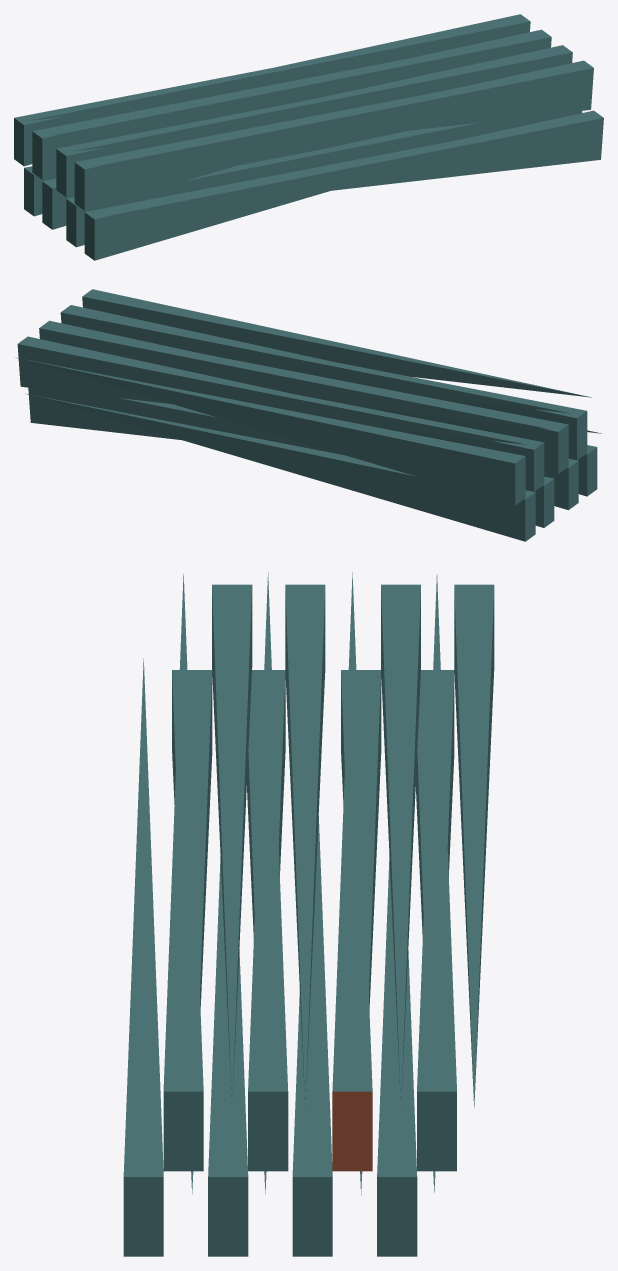
File: can_nails.glb
3 renders of one model, top to bottom at view 1: azimuth 30°, elevation 25°; view 2: azimuth 150°, elevation 25°; view 3: azimuth 270°, elevation 25°, orthographic. The views are drawn at different scales.
Visible parts, largest first — view 1: Cube.003; view 2: Cube.003; view 3: Cube.003.
Boxes of the visible parts, box(x1,y1,x2,y2) form: Cube.003: box(14, 14, 603, 260); Cube.003: box(16, 289, 601, 541); Cube.003: box(123, 572, 494, 1256).
Bounding box in the file's own units: 0.5859 × 0.1151 × 0.1891.
